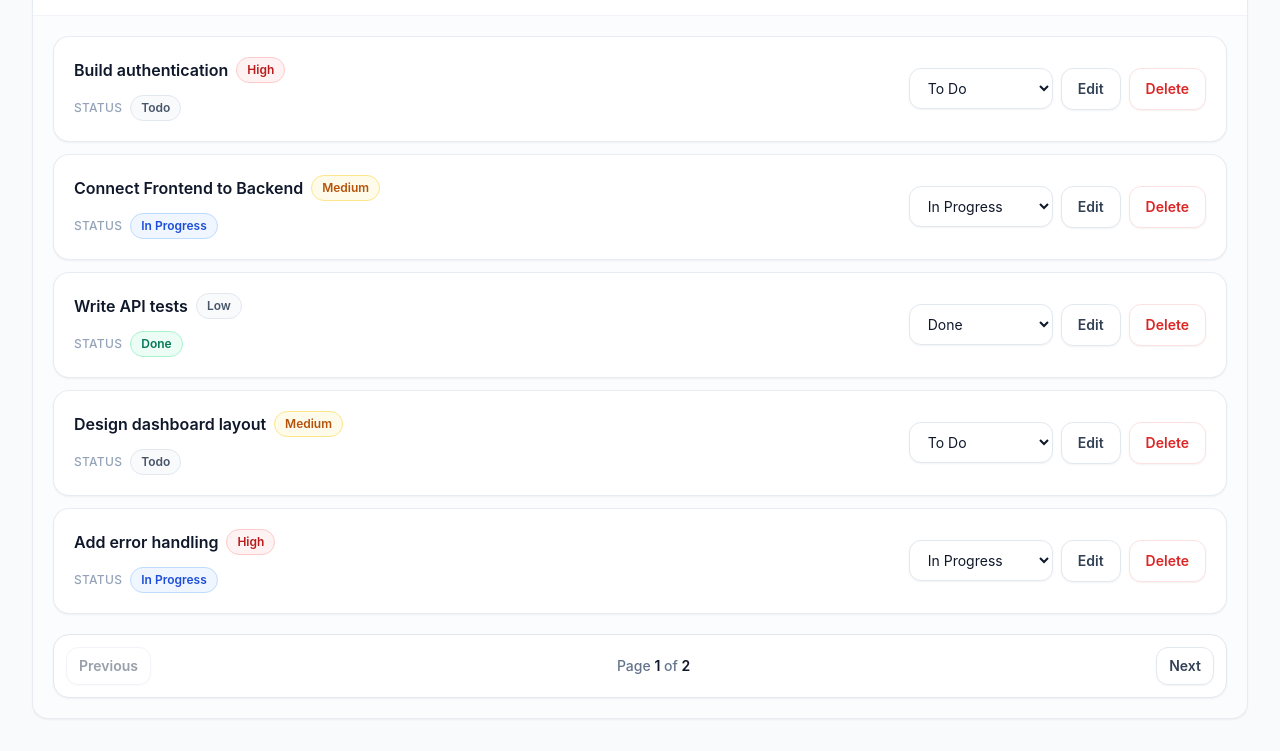
it: Dashboard › moves to the next page
(page scrolled)
Click the button "Next" at point(1185, 666), box [1156, 647, 1214, 685]
(page scrolled)
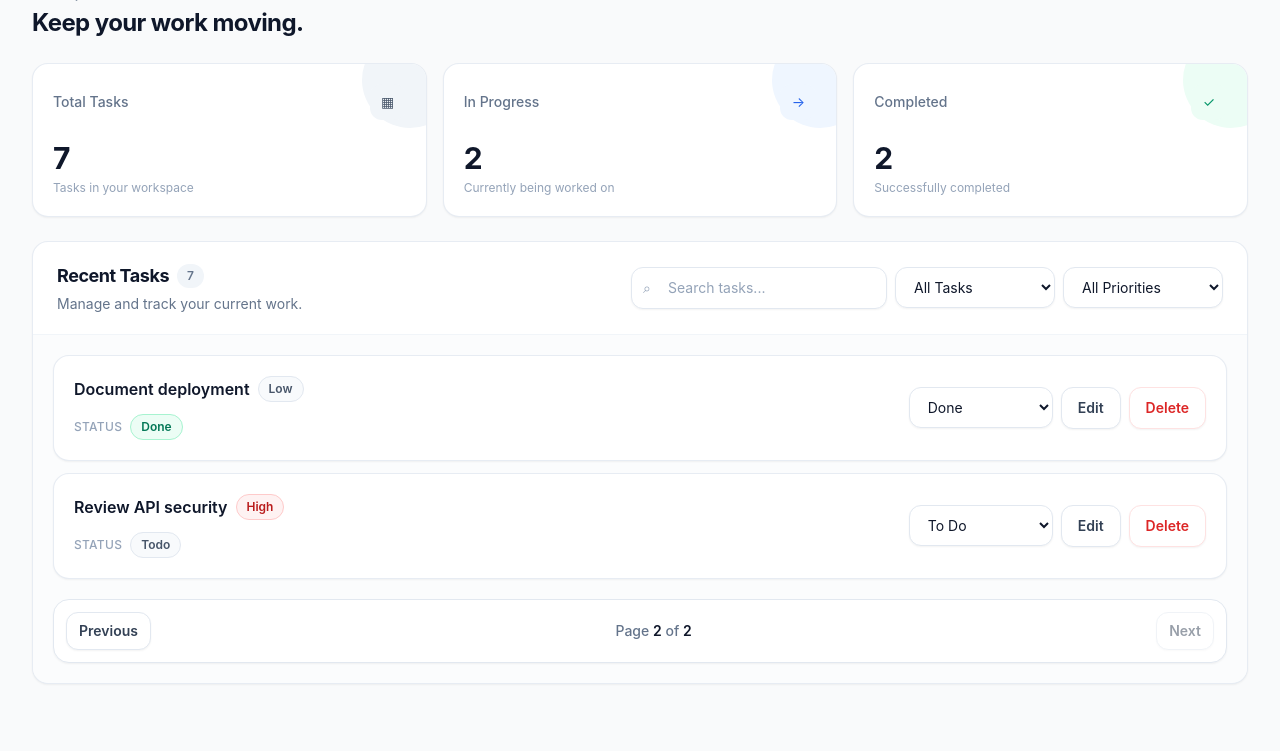
Check: the text "Review API security" is shown, box [74, 495, 228, 519]
Check: the text "Build authentication" is gone
Check: the navigation bar named "Task pagination" shows "Page 2 of 2", box [53, 599, 1227, 663]
